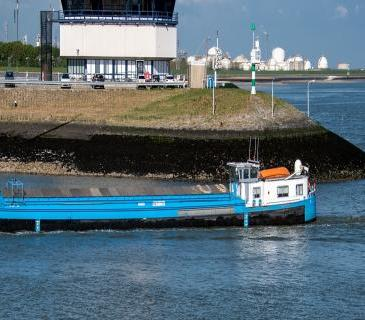Ship: (0, 147, 365, 251)
